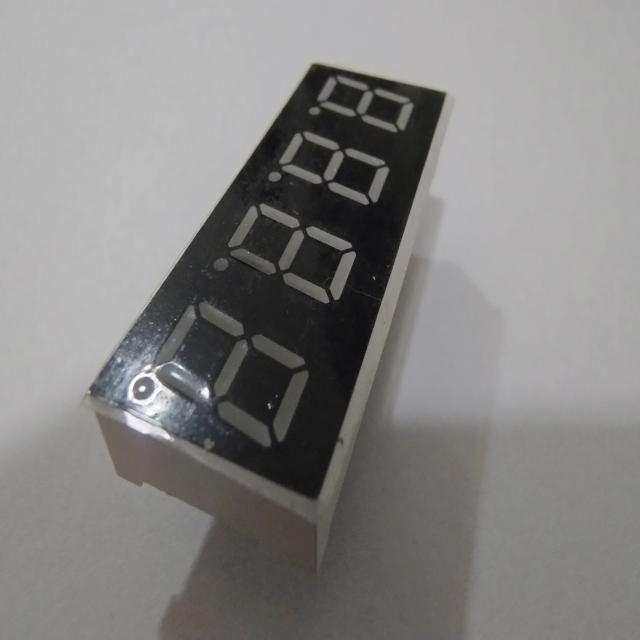7_segments_4_digits: (79, 56, 456, 582)
